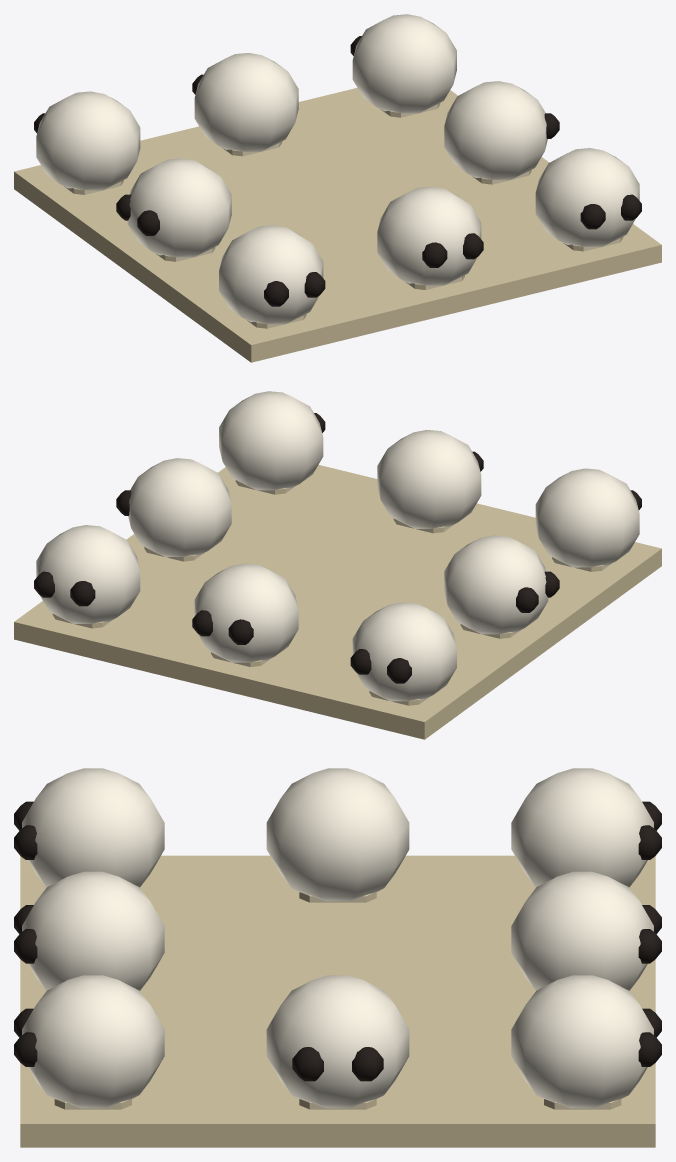
File: block_bone_cap_keep.glb
3 renders of one model, top to bottom at view 1: azimuth 30°, elevation 25°; view 2: azimuth 150°, elevation 25°; view 3: azimuth 270°, elevation 25°, orthographic. The views are drawn at different scales.
Visible parts, largest first — view 1: BoneCapKeep; view 2: BoneCapKeep; view 3: BoneCapKeep.
Part boxes in pixels (bbox=[...]): BoneCapKeep: bbox=[14, 14, 661, 362]; BoneCapKeep: bbox=[14, 391, 661, 739]; BoneCapKeep: bbox=[14, 768, 661, 1147].
Bounding box in the file's own units: 1.24 × 0.2858 × 1.24.
